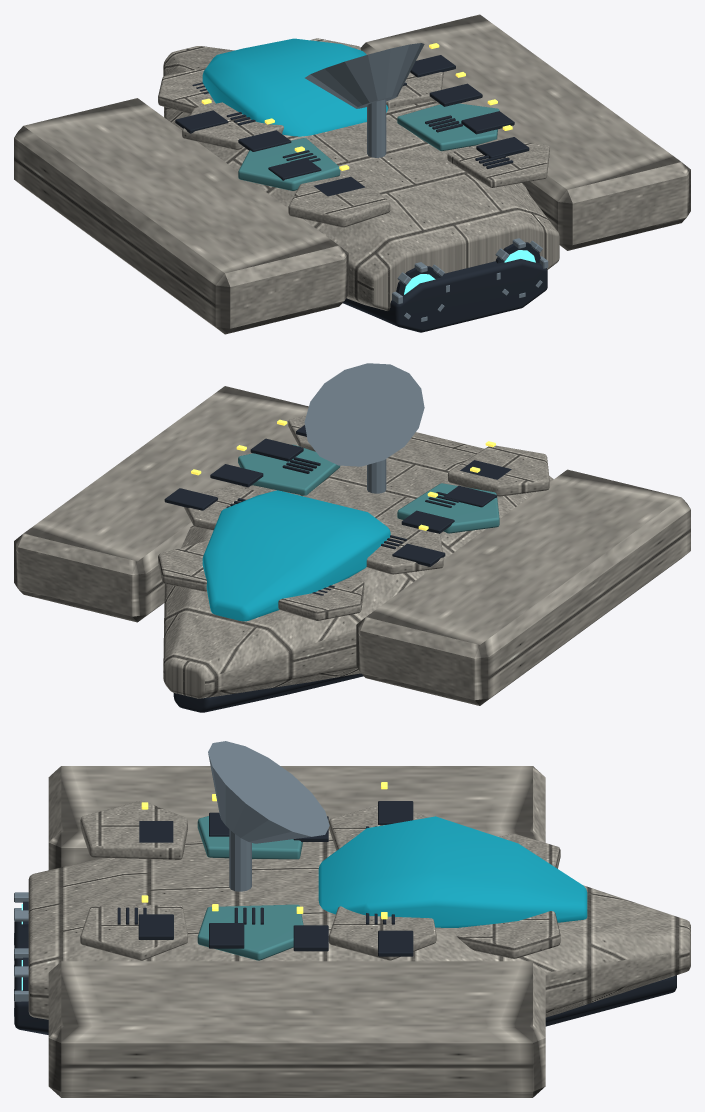
The model's file is horizon.glb.
The picture shows the model from 3 angles, top to bottom: view 1: azimuth 30°, elevation 25°; view 2: azimuth 150°, elevation 25°; view 3: azimuth 270°, elevation 25°; orthographic projection. The views are drawn at different scales.
Parts seen in each view (by area): view 1: Gôndola do motor.021 · exportação, Bocal do motor.021 · exportação, Cabine panorâmica.010 · exportação, Antena parabólica · exportação, Colar da turbina.064 · exportação, Núcleo propulsor.021 · exportação; view 2: Gôndola do motor.021 · exportação, Cabine panorâmica.010 · exportação, Antena parabólica · exportação, Bocal do motor.021 · exportação, Colar da turbina.064 · exportação; view 3: Gôndola do motor.021 · exportação, Cabine panorâmica.010 · exportação, Antena parabólica · exportação, Bocal do motor.021 · exportação, Colar da turbina.064 · exportação.
Boxes of the visible parts, x1=… form: Gôndola do motor.021 · exportação: x1=14, y1=14, x2=690, y2=334; Bocal do motor.021 · exportação: x1=175, y1=55, x2=547, y2=332; Cabine panorâmica.010 · exportação: x1=202, y1=38, x2=388, y2=136; Antena parabólica · exportação: x1=305, y1=43, x2=548, y2=321; Colar da turbina.064 · exportação: x1=238, y1=103, x2=499, y2=190; Núcleo propulsor.021 · exportação: x1=404, y1=250, x2=535, y2=294; Gôndola do motor.021 · exportação: x1=14, y1=386, x2=690, y2=705; Cabine panorâmica.010 · exportação: x1=202, y1=490, x2=390, y2=621; Antena parabólica · exportação: x1=304, y1=363, x2=424, y2=493; Bocal do motor.021 · exportação: x1=164, y1=425, x2=511, y2=712; Colar da turbina.064 · exportação: x1=238, y1=444, x2=499, y2=533; Gôndola do motor.021 · exportação: x1=28, y1=766, x2=690, y2=1097; Cabine panorâmica.010 · exportação: x1=318, y1=816, x2=587, y2=927; Antena parabólica · exportação: x1=14, y1=741, x2=329, y2=1016; Bocal do motor.021 · exportação: x1=14, y1=801, x2=676, y2=1034; Colar da turbina.064 · exportação: x1=197, y1=816, x2=303, y2=960.
Size of the model in its own units: 45.58 by 21.06 by 48.07.
Materials: 7 (1 with a texture image).
